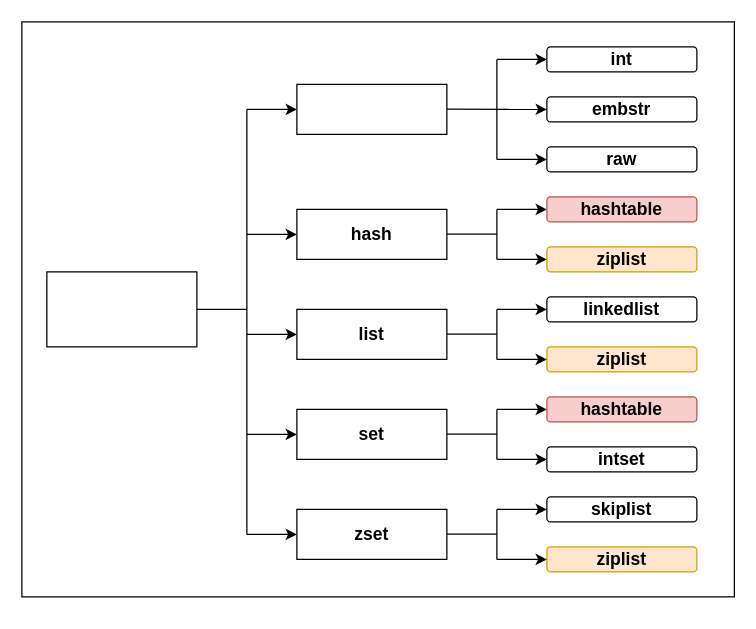
Some shapes in this 756 by 629 pixel diagram are drawn without their labels. Each missing label, with the centre of its shape:
string: (x=371, y=108)
数据类型: (x=121, y=309)
